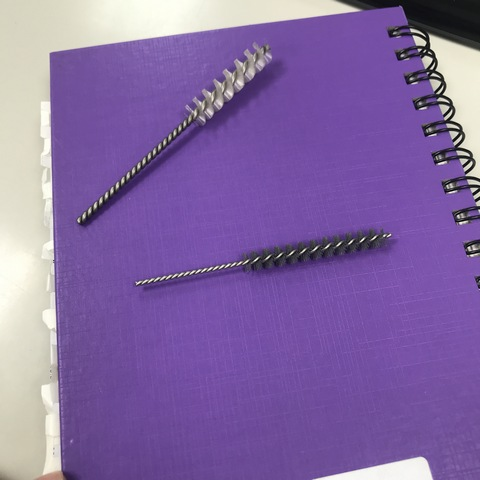Twist Brush-A: (134, 219, 393, 301)
Twist Brush-B: (75, 39, 278, 229)
